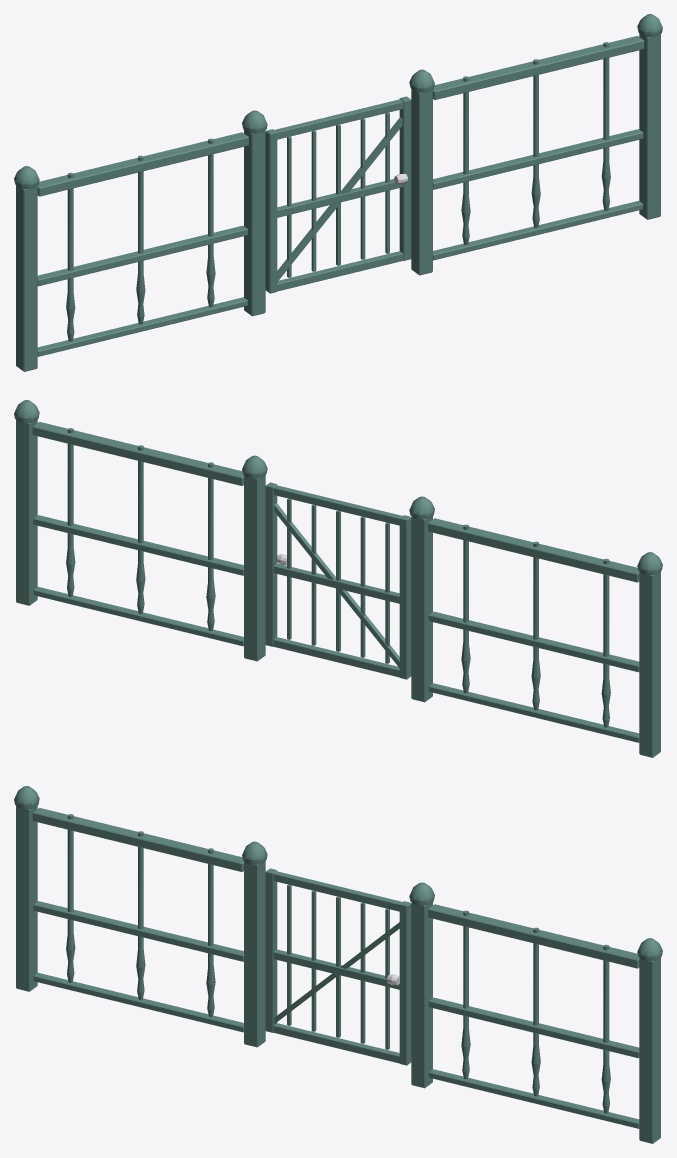
The model's file is amusement-arcade-and-seaside-pier-pier-railing-gate-se-1c2c64e8__35393.glb.
3 renders of one model, top to bottom at view 1: azimuth 30°, elevation 25°; view 2: azimuth 150°, elevation 25°; view 3: azimuth 330°, elevation 25°, orthographic.
Parts seen in each view (by area): view 1: pier-railing-gate-section, gate; view 2: pier-railing-gate-section, gate; view 3: pier-railing-gate-section, gate.
Part boxes in pixels (x1=…): pier-railing-gate-section: x1=14, y1=14, x2=662, y2=371; gate: x1=265, y1=96, x2=411, y2=293; pier-railing-gate-section: x1=14, y1=400, x2=662, y2=757; gate: x1=265, y1=482, x2=411, y2=679; pier-railing-gate-section: x1=14, y1=786, x2=662, y2=1143; gate: x1=265, y1=868, x2=411, y2=1065.
Size of the model in its own units: 4.05 by 1.2 by 0.1353.
